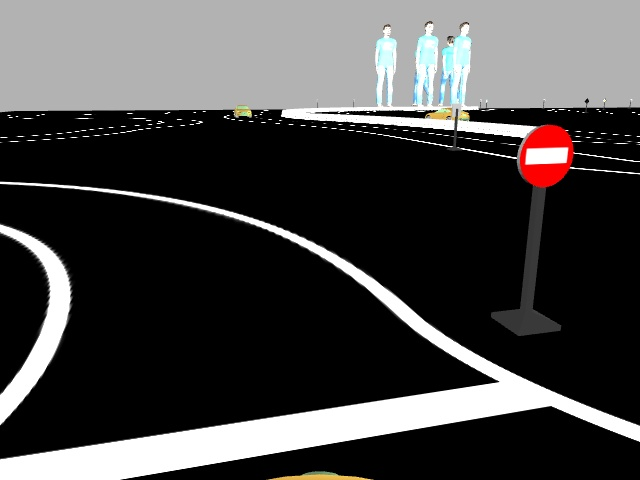NoEntry: (516, 123, 575, 188)
